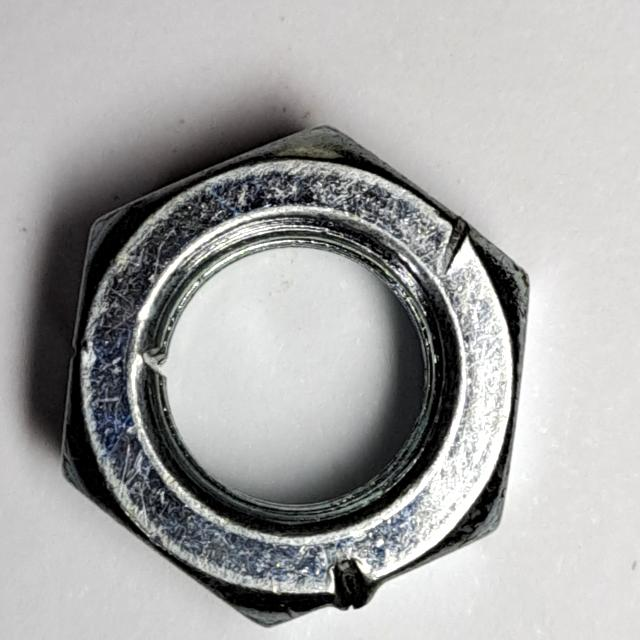Scratches: (53, 117, 539, 638)
